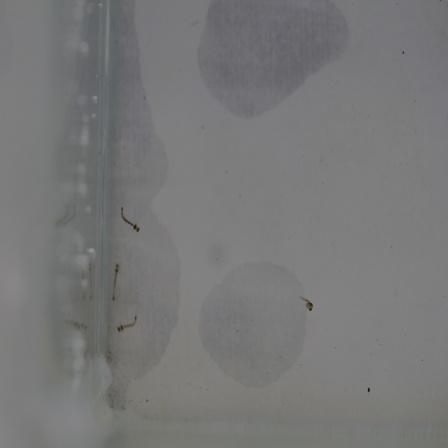Jentik-Nyamuk: (118, 202, 142, 235), (108, 259, 123, 305), (113, 313, 141, 333), (297, 291, 318, 317)
